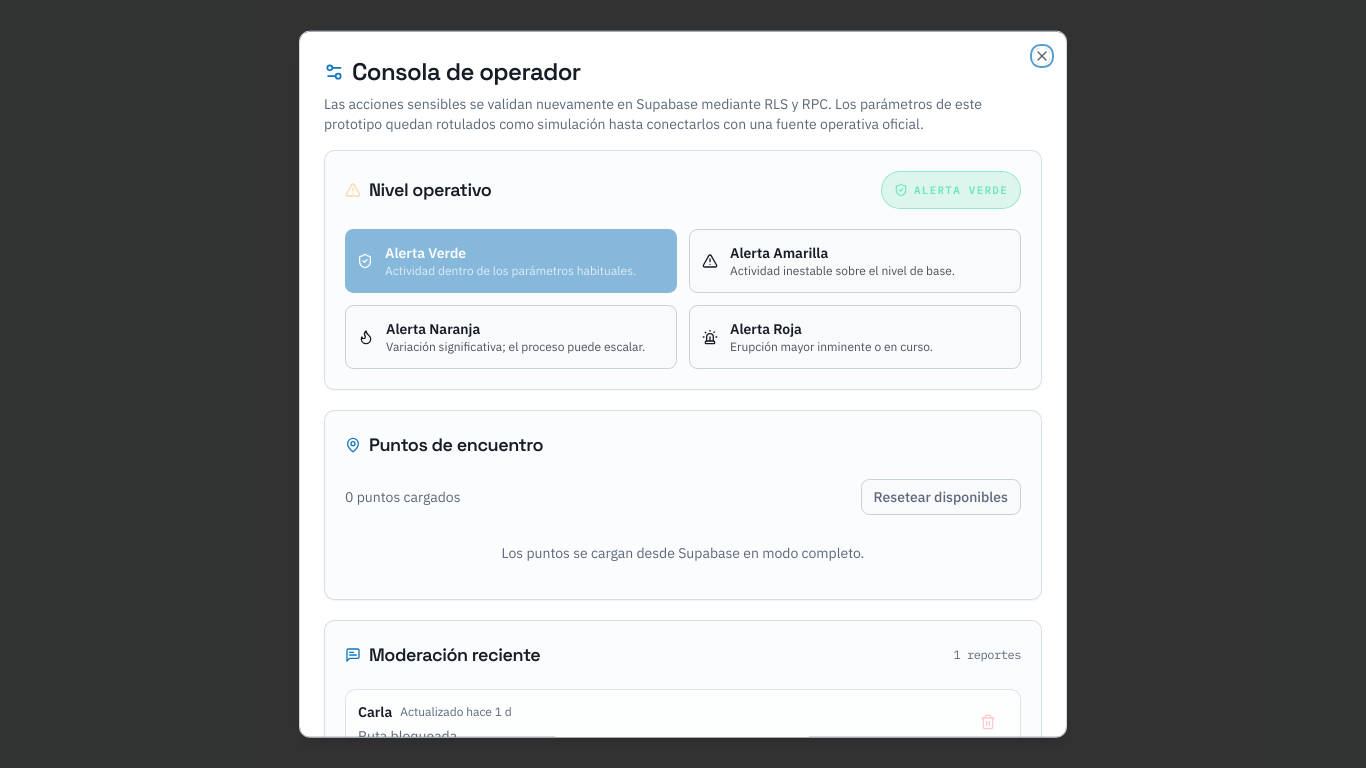
admin-panel › cambia el nivel por RPC y oculta un reporte en modo completo
The width and height of the screenshot is (1366, 768).
Expected: the text "Carla" is shown, [358, 702, 392, 722]
Click the button "Naranja".
click(511, 337)  # box [345, 305, 677, 369]
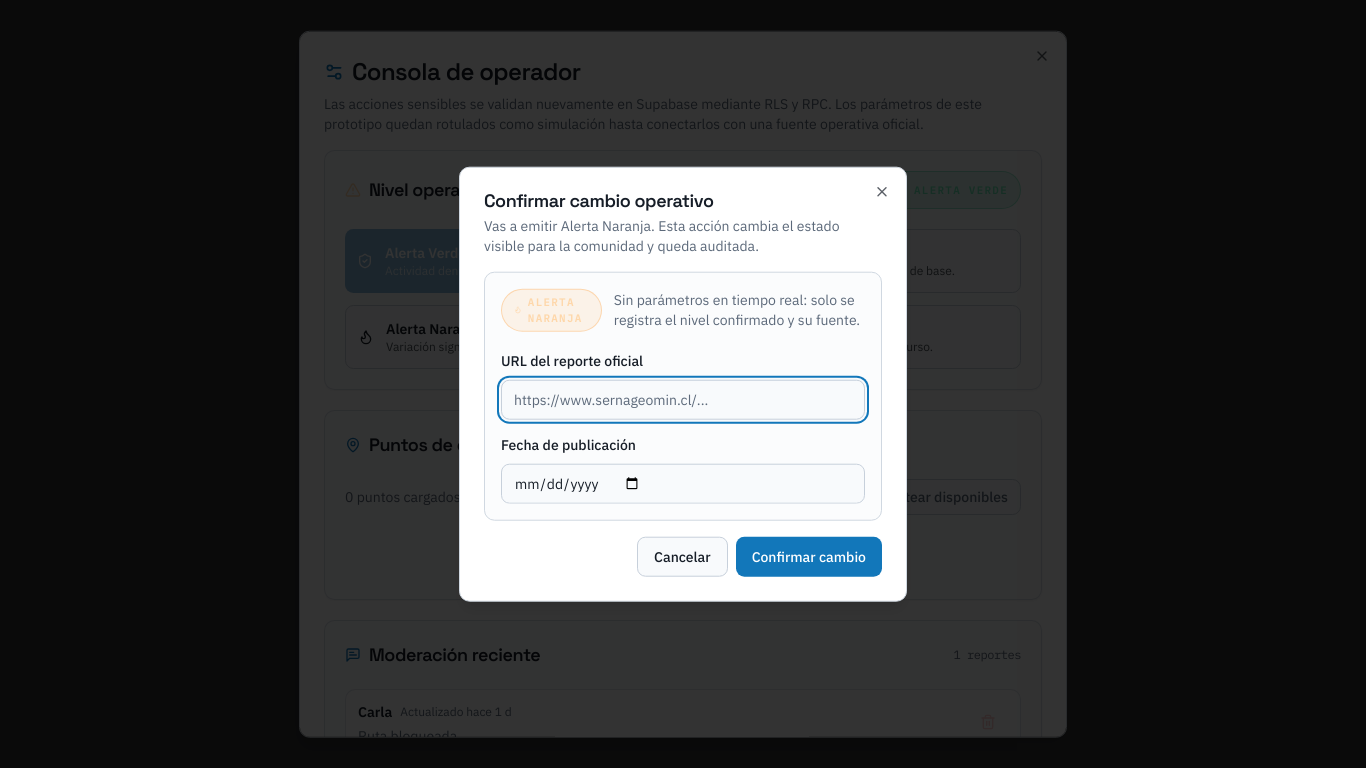
Type "https://www.sernageomin.cl/alertas-volcanicas/" into the field labelled "URL del reporte oficial".
click(683, 399); type("https://www.sernageomin.cl/alertas-volcanicas/")  # box [501, 379, 865, 419]
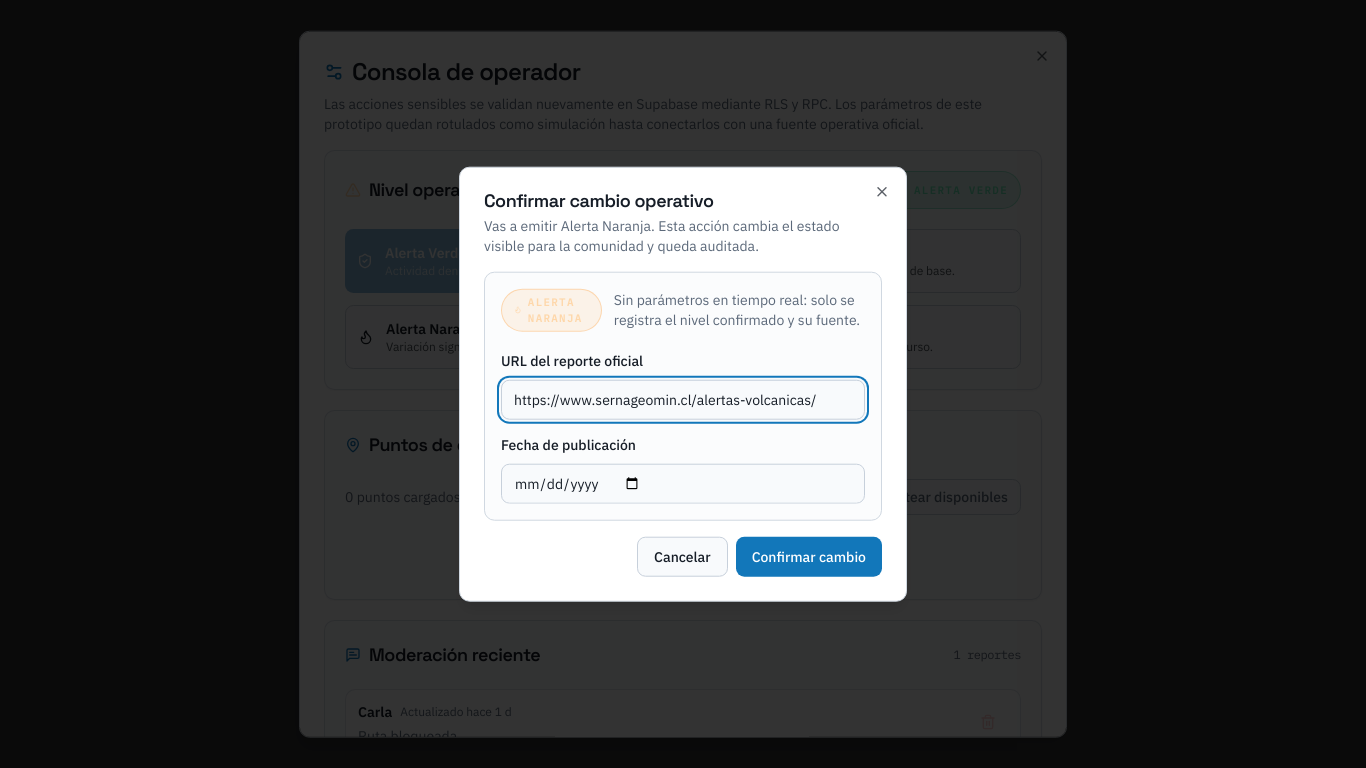
Type "2026-08-15" into the date field labelled "Fecha de publicación".
click(683, 483); type("2026-08-15")  # box [501, 463, 865, 503]
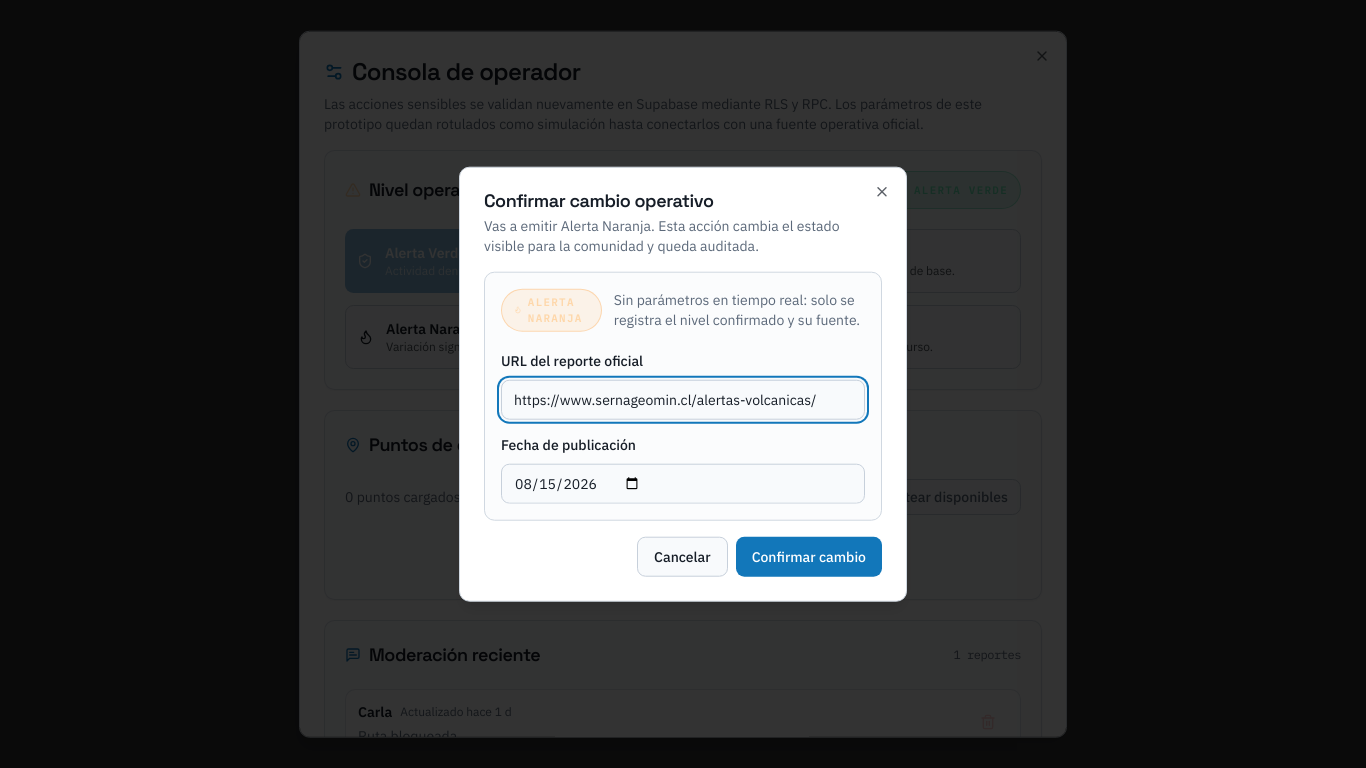
Click the button "Confirmar cambio".
click(809, 556)  # box [736, 536, 882, 576]
(page scrolled)
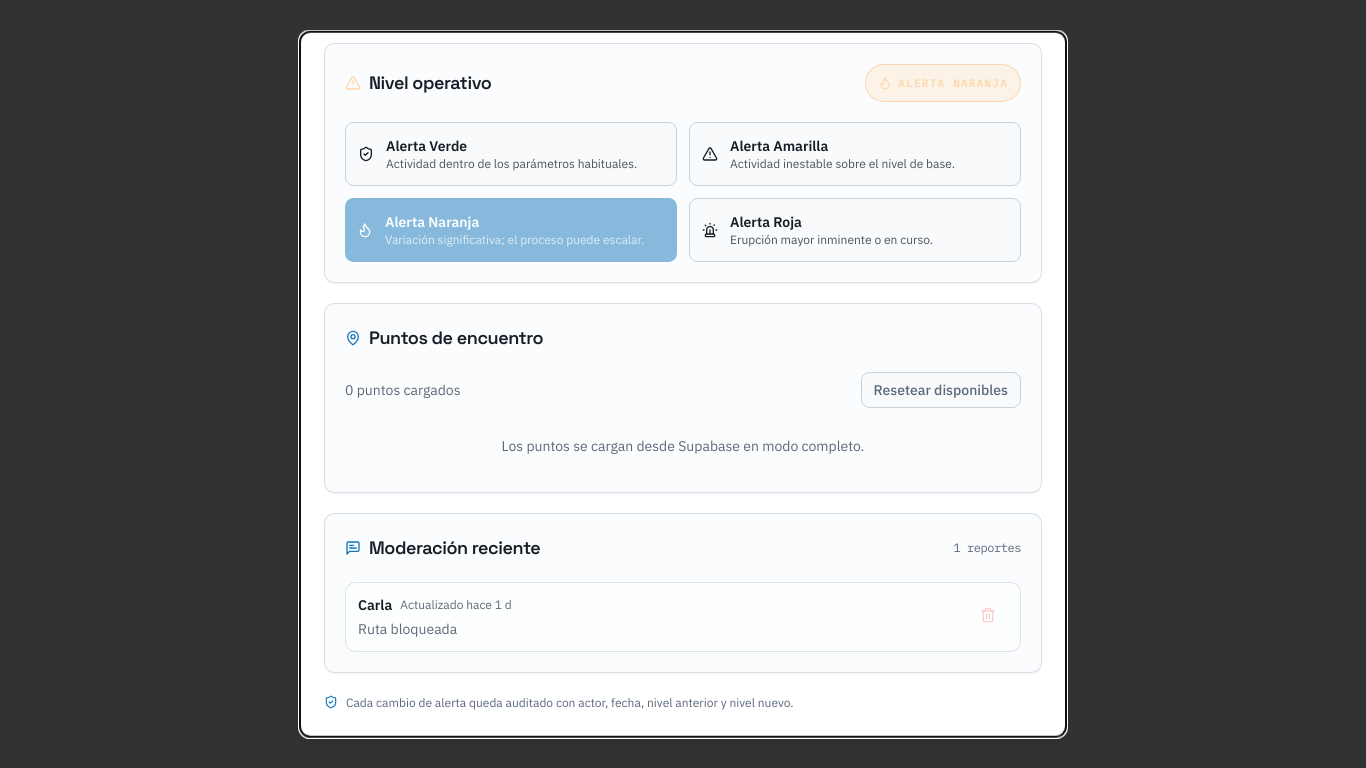
Click the button named "Ocultar reporte de Carla".
click(988, 615)  # box [968, 595, 1008, 635]
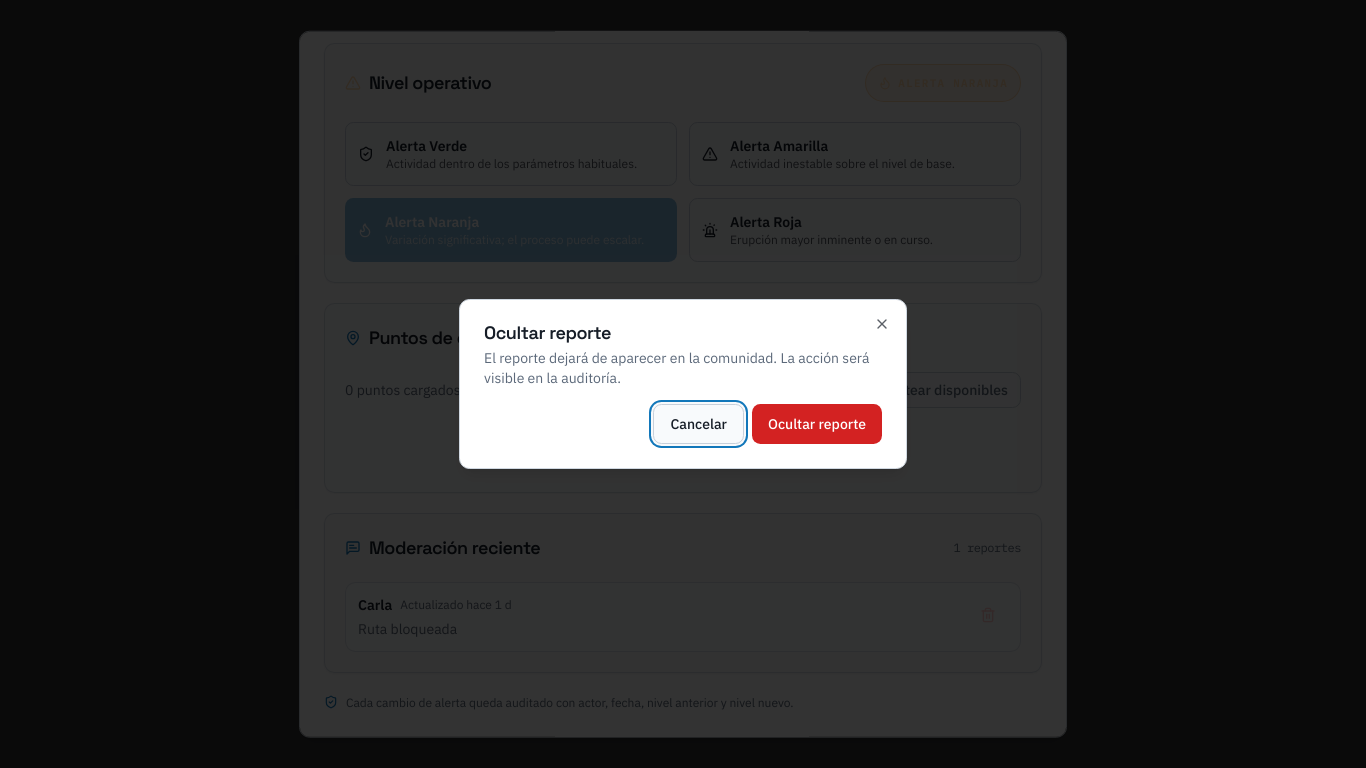
Click the button "Ocultar reporte".
click(817, 424)  # box [752, 404, 882, 444]
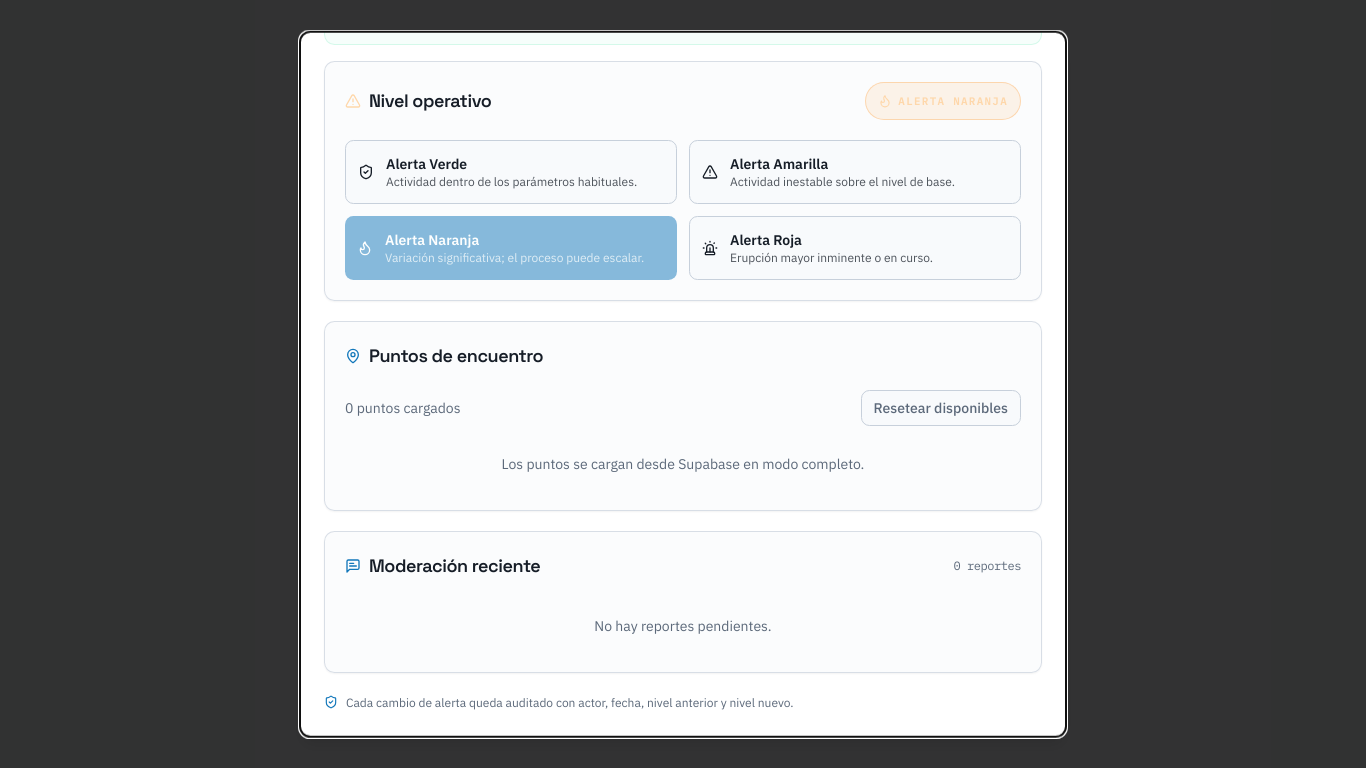
Result: the text "Ruta bloqueada" is gone
